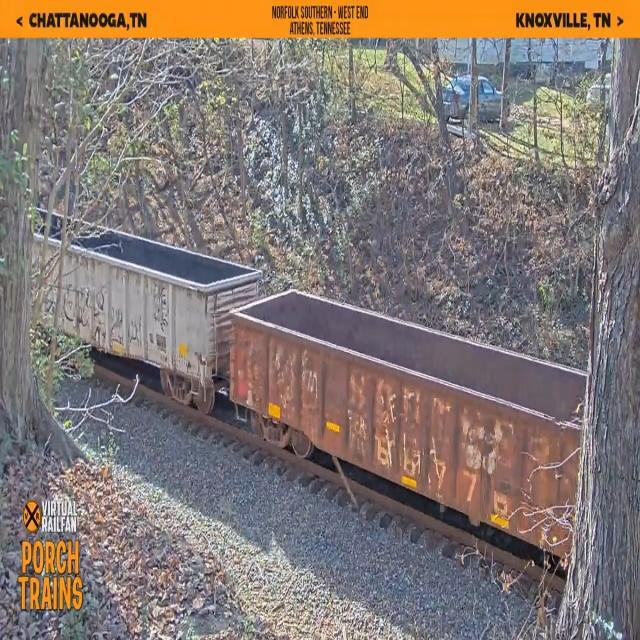gondola: (226, 276, 584, 576), (34, 200, 264, 428)
